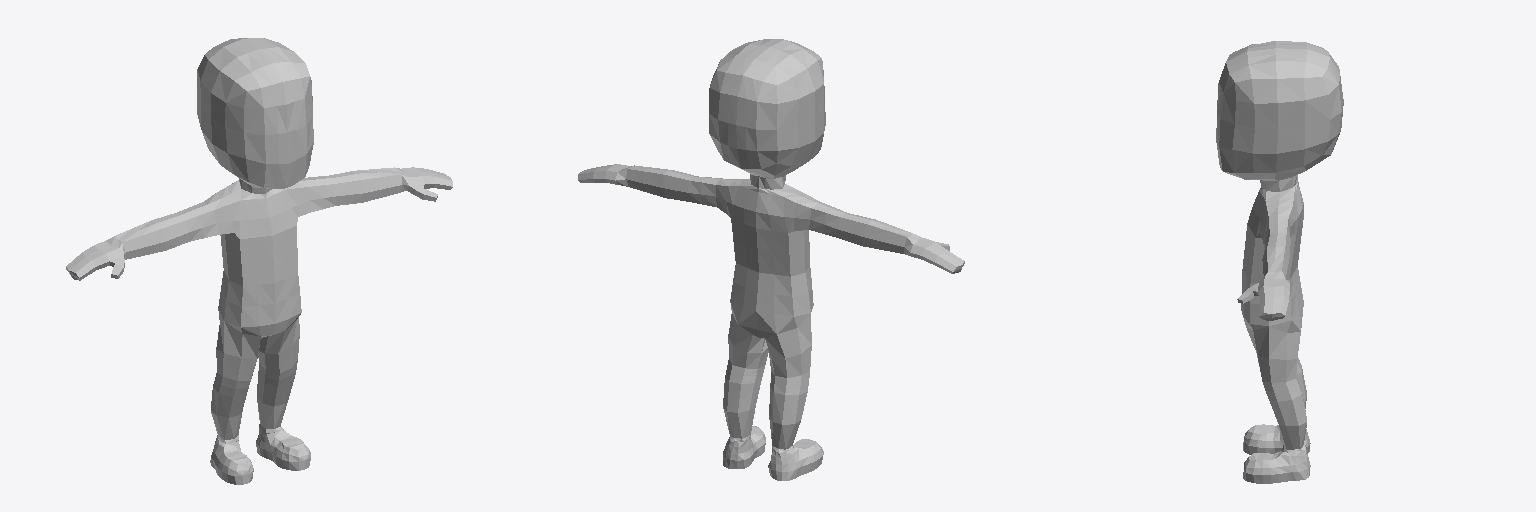
Rendered from character.obj.
The picture shows the model from 3 angles: view 1: azimuth 30°, elevation 25°; view 2: azimuth 150°, elevation 25°; view 3: azimuth 270°, elevation 25°; orthographic projection.
Parts seen in each view (by area): view 1: characterMedium; view 2: characterMedium; view 3: characterMedium.
Boxes of the visible parts, x1,y1,x2,y2 form: characterMedium: [66, 38, 452, 484]; characterMedium: [578, 39, 964, 480]; characterMedium: [1216, 41, 1343, 483].
Size of the model in its own units: 3.62 by 3.76 by 1.05.